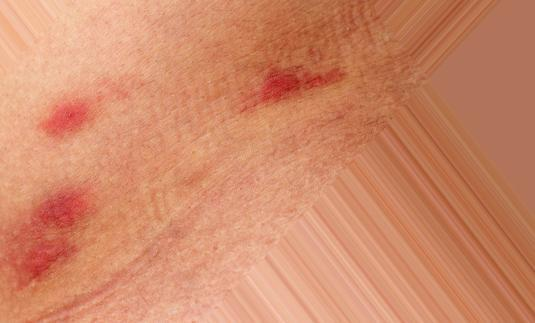Fleas: (1, 217, 75, 285), (30, 179, 94, 242), (256, 62, 344, 102), (37, 100, 102, 129)
